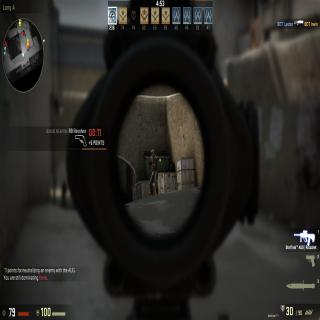T-Body: (148, 148, 158, 196)
T-Head: (150, 148, 155, 158)
